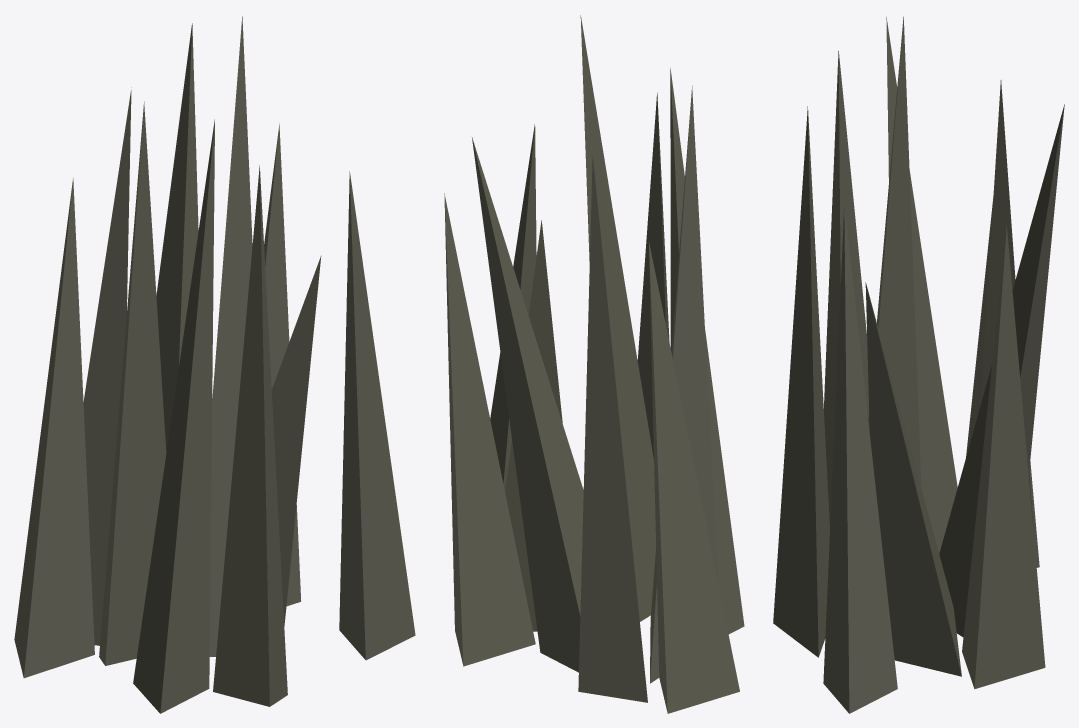
Rendered from grass6.fbx.
3 renders of one model, left to right at view 1: azimuth 30°, elevation 25°; view 2: azimuth 150°, elevation 25°; view 3: azimuth 270°, elevation 25°, orthographic. The views are drawn at different scales.
Parts seen in each view (by area): view 1: grass6; view 2: grass6; view 3: grass6.
Boxes of the visible parts, left/top/right/bottom form: grass6: left=14, top=16, right=415, bottom=713; grass6: left=444, top=15, right=744, bottom=713; grass6: left=773, top=16, right=1064, bottom=713.
Size of the model in its own units: 69.78 by 128 by 52.79.
